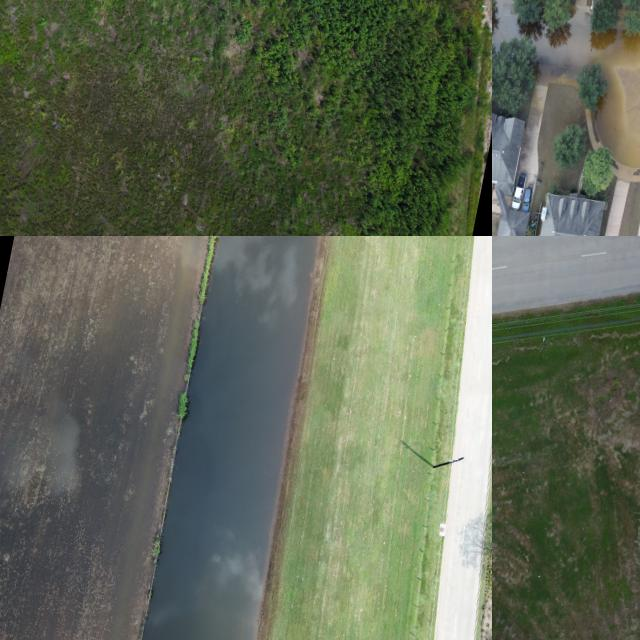fire: (142, 236, 318, 640), (534, 21, 593, 81), (492, 0, 520, 49)
